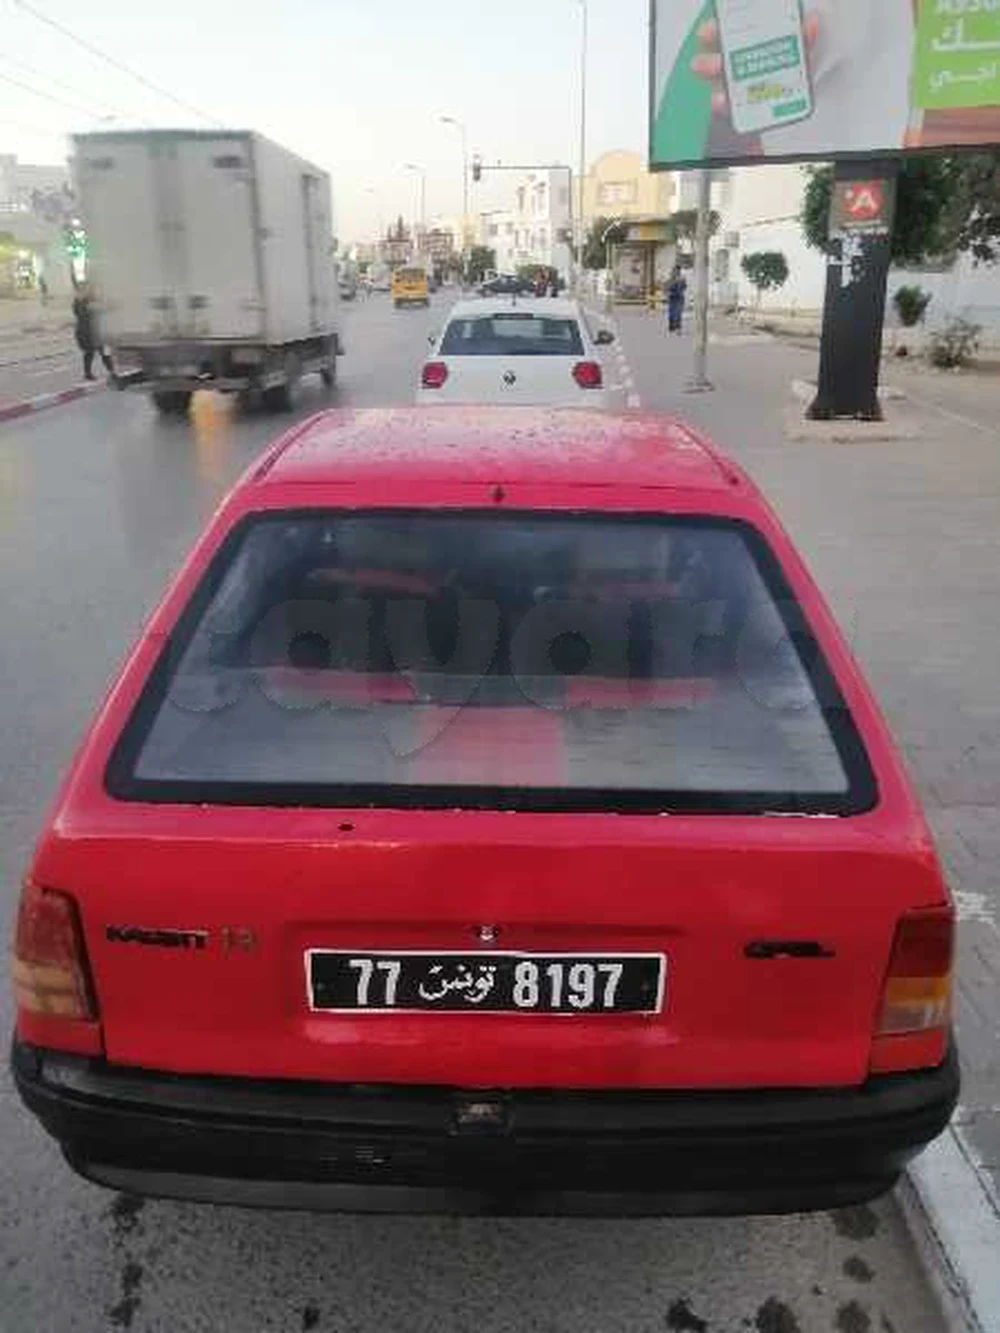14: (13, 409, 968, 1206)
volkswagen: (411, 290, 621, 440)
